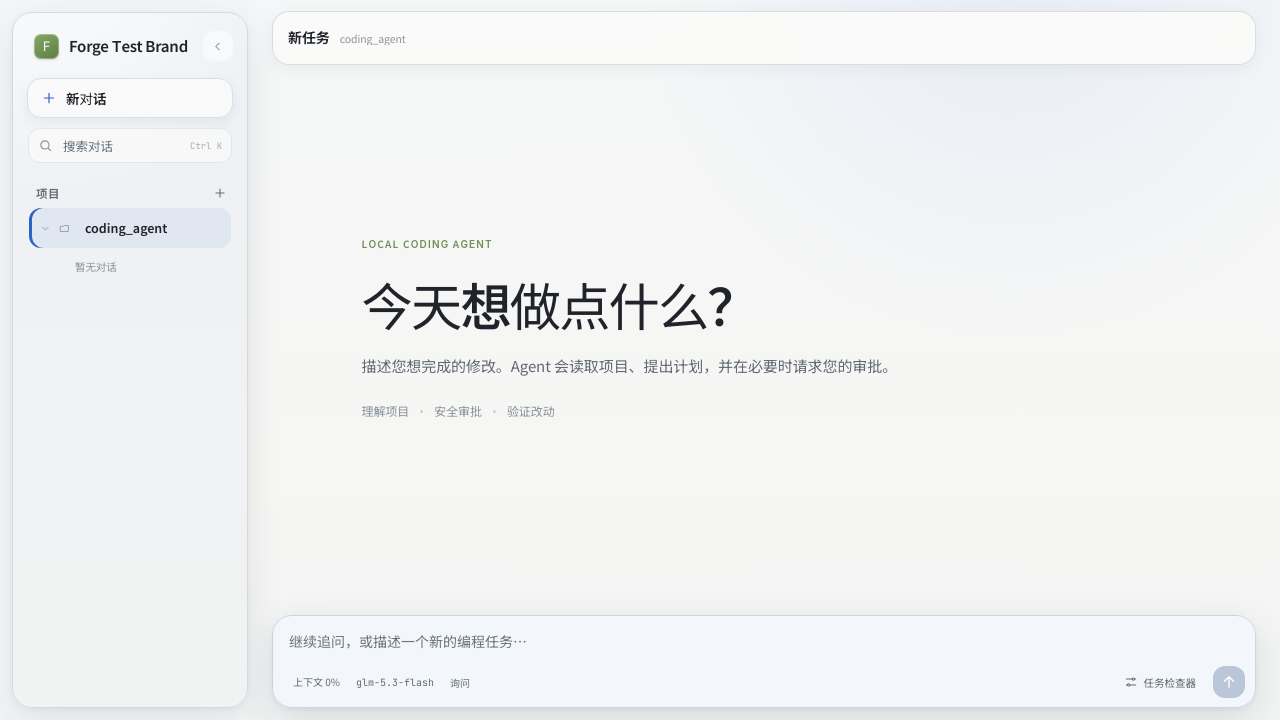
it: keeps daily model switching separate from connection management
This screenshot has width=1280, height=720.
Type "/model" into the text box named "任务输入". click: (766, 646)
box: [286,627,1245,666]
Then press Enter
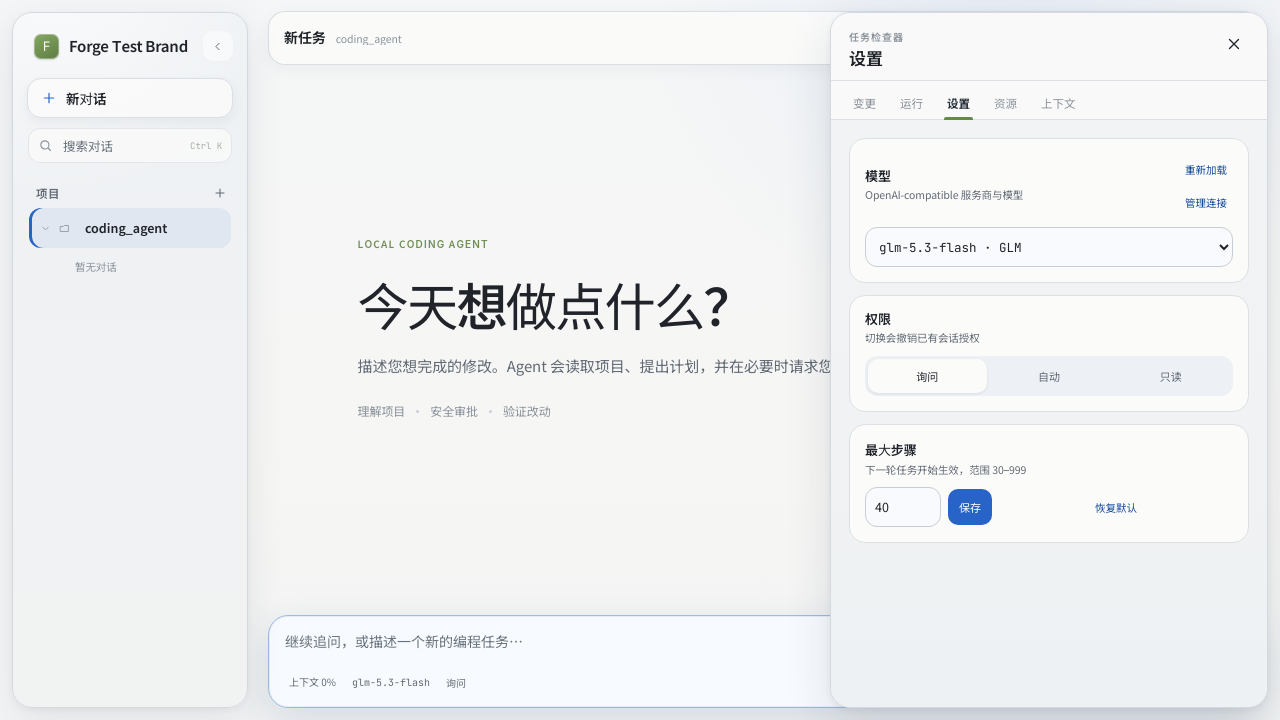
Expected: the dropdown named "当前模型" is shown, [865,227,1233,267]
Click the button "管理连接". click: (1206, 202)
box: [1179,187,1233,217]
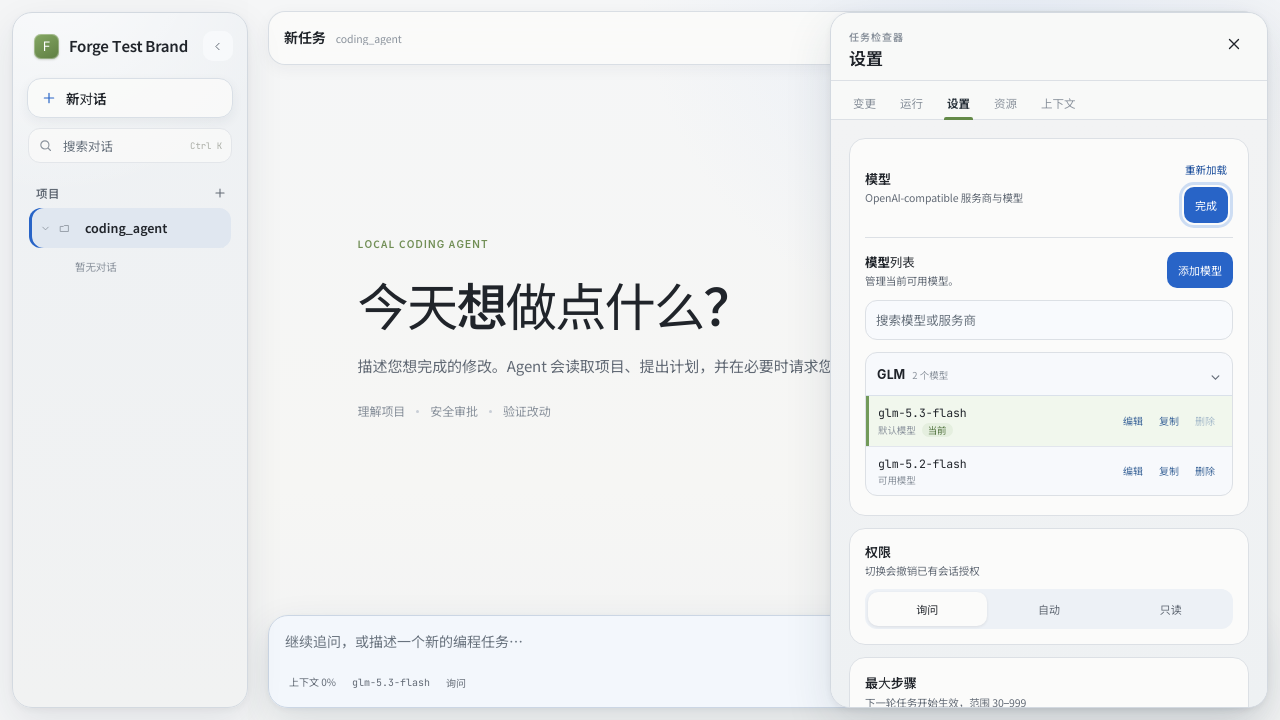
Expected: the dropdown labelled "当前模型" is gone
Expected: the text "模型列表" is shown, [865,254,915,270]
Click the button "完成". click: (1206, 205)
box: [1184,187,1228,223]
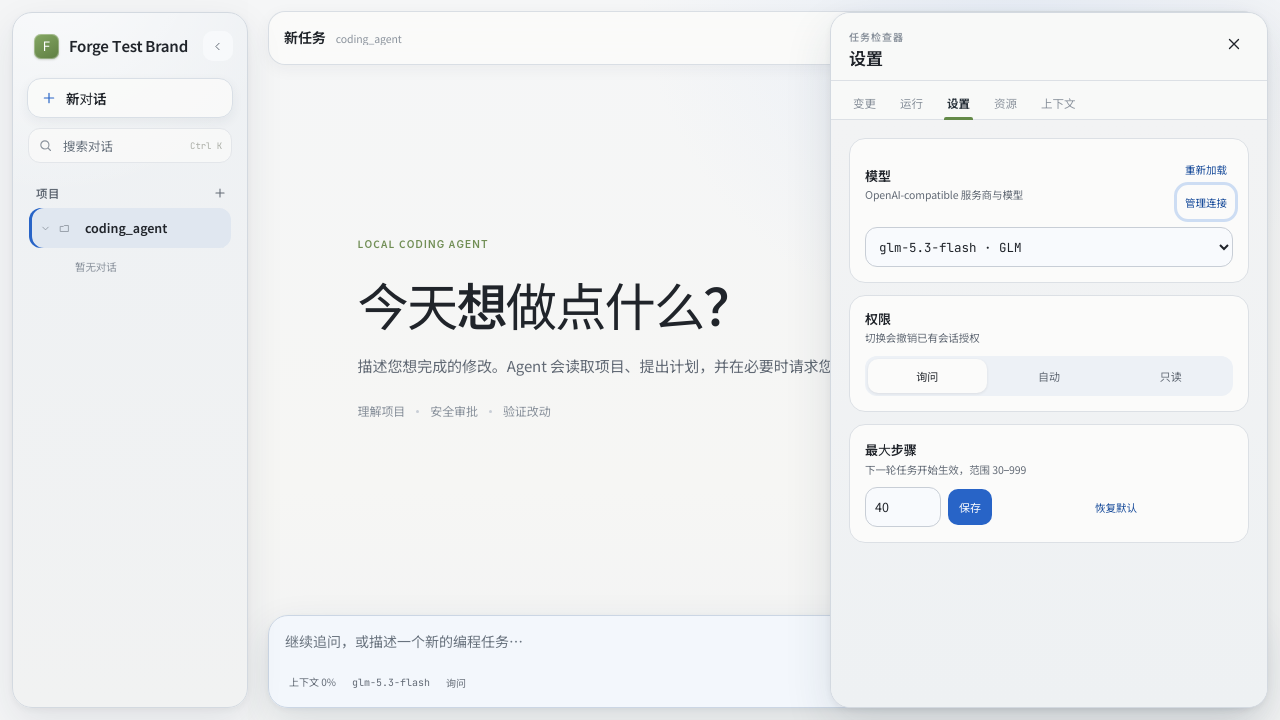
Expected: the dropdown named "当前模型" is shown, [865,227,1233,267]
